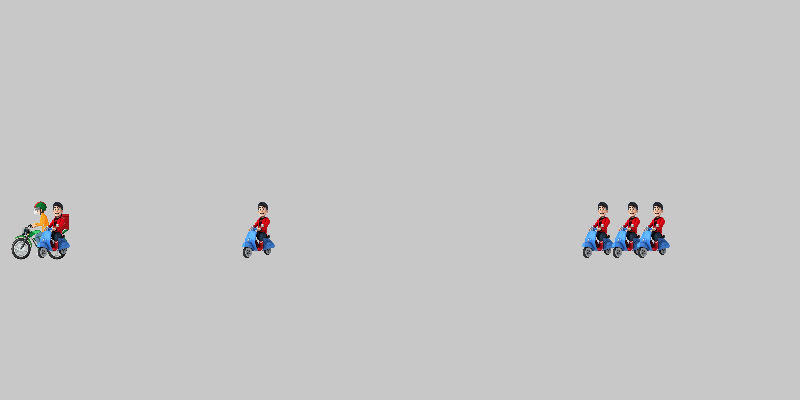helmet: (10, 200, 70, 260)
no_helmet: (25, 200, 85, 260), (230, 200, 290, 260), (570, 200, 630, 260), (600, 200, 660, 260), (625, 200, 685, 260)
